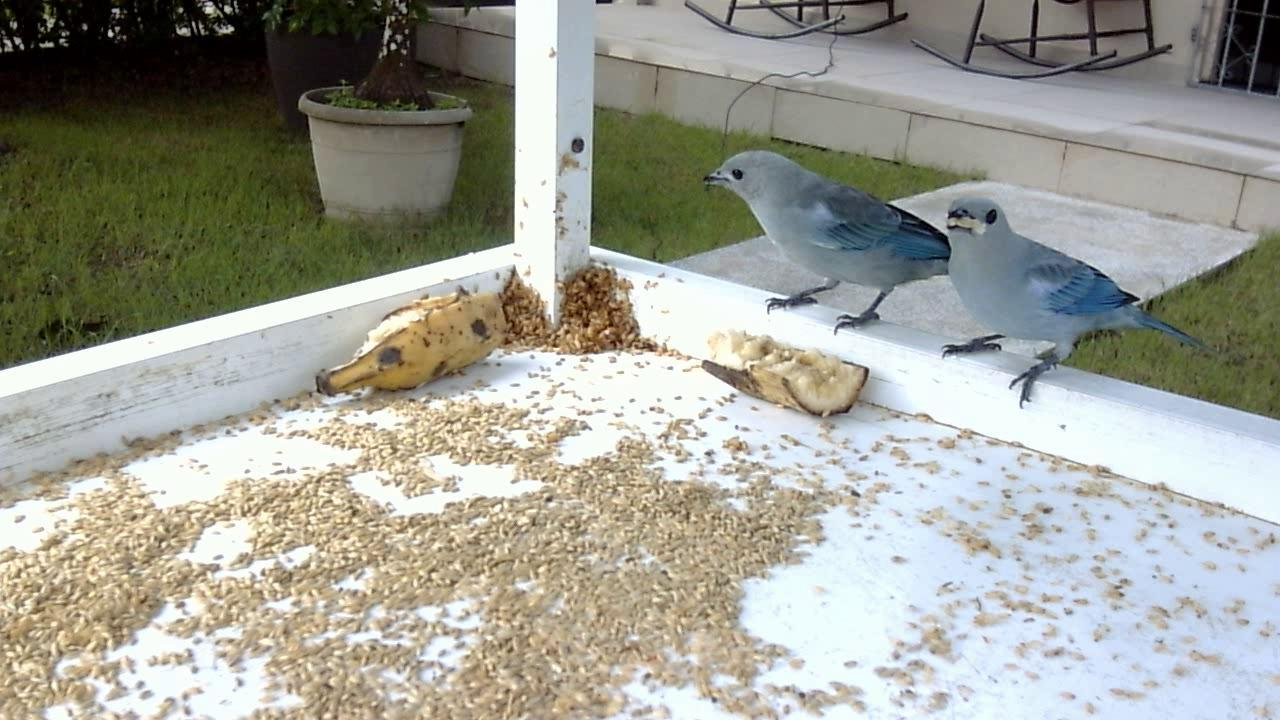sanhaco_da_amazonia: (928, 187, 1216, 419), (687, 137, 966, 349)
